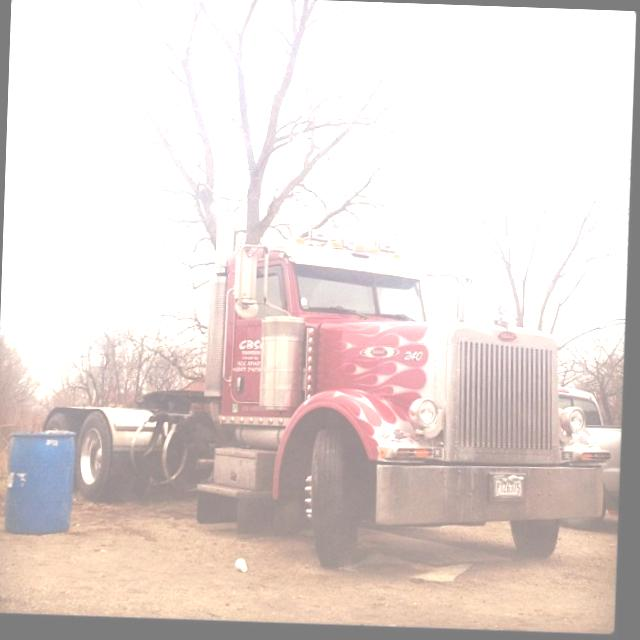Vehicle: (39, 201, 617, 582)
